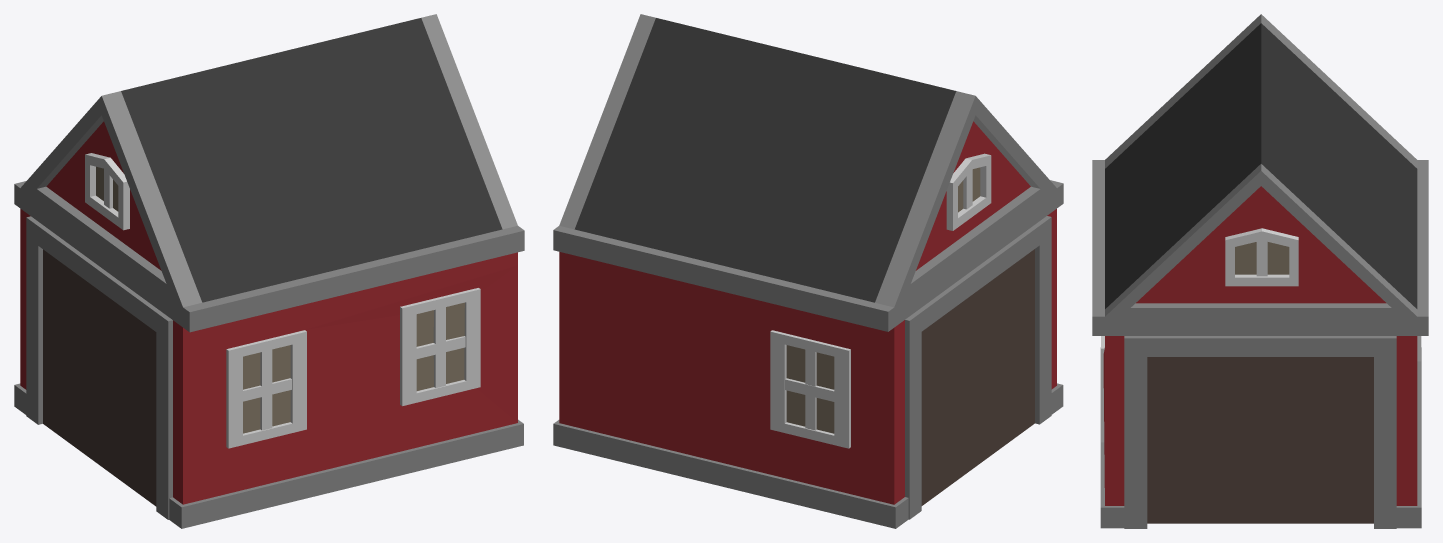
File: Garage.fbx
The picture shows the model from 3 angles, left to right: view 1: azimuth 30°, elevation 25°; view 2: azimuth 150°, elevation 25°; view 3: azimuth 270°, elevation 25°; orthographic projection. The views are drawn at different scales.
Visible parts, largest first — view 1: Cube.8380; view 2: Cube.8380; view 3: Cube.8380.
Boxes of the visible parts, x1,y1,x2,y2 form: Cube.8380: [14, 14, 524, 528]; Cube.8380: [553, 14, 1063, 528]; Cube.8380: [1092, 14, 1428, 528].
Size of the model in its own units: 482 by 497 by 426.
